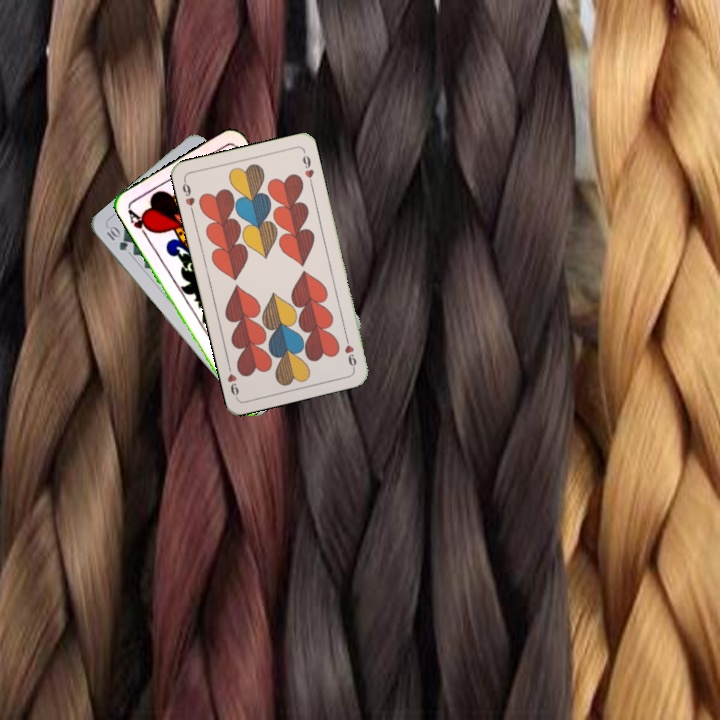G10: (102, 222, 131, 253)
H9: (178, 176, 197, 216), (340, 331, 359, 371)
HA: (123, 204, 156, 240)
